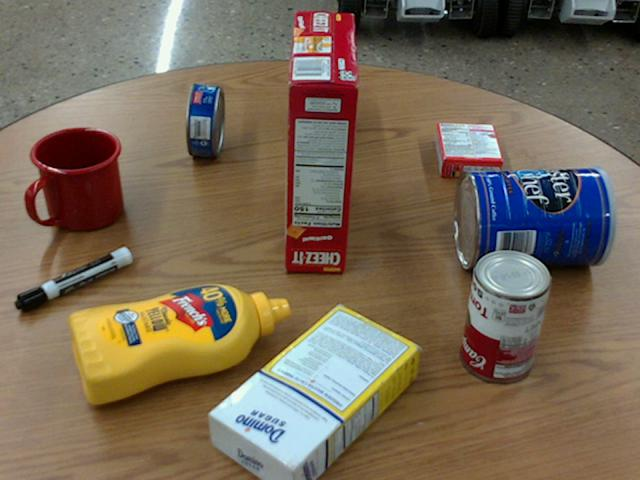cracker_box: (285, 10, 362, 270)
gelatin_box: (434, 121, 502, 177)
large_marker: (15, 246, 131, 311)
master_chef_can: (454, 164, 616, 267)
mug: (29, 128, 123, 232)
mustard_bottle: (68, 282, 289, 405)
potted_meat_can: (297, 50, 349, 145)
sugar_box: (206, 304, 419, 479)
tomato_soup_can: (461, 246, 551, 380)
tuna_fish_can: (185, 83, 224, 156)
